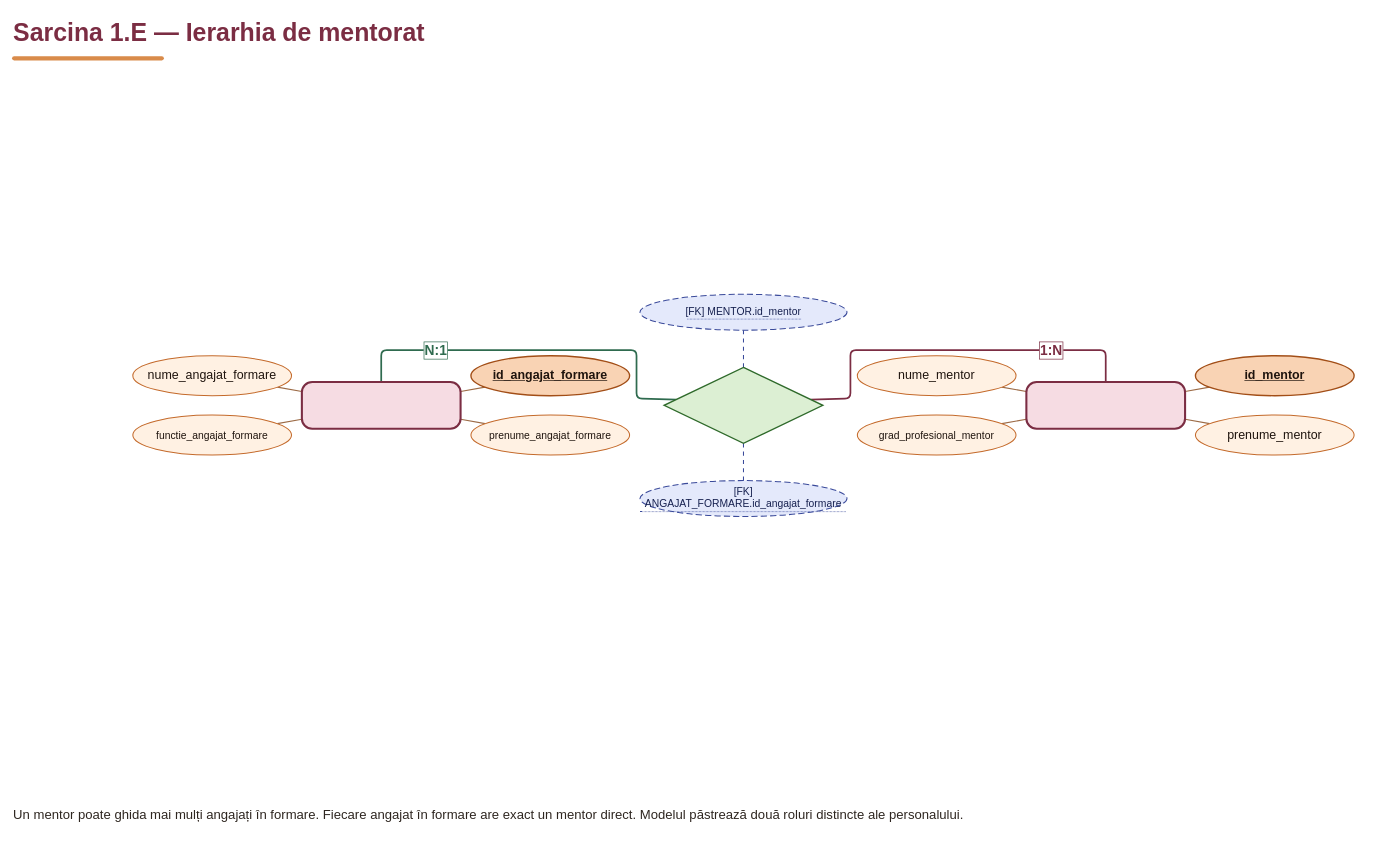
Some shapes in this 1383 by 843 pixel diagram are drawn without their labels. Here are the shapes that lost their labels. From the top down, the box of each, then its label:
(300, 381, 461, 430): ANGAJAT_FORMARE
(663, 366, 823, 444): Ghidează
(1025, 381, 1186, 430): MENTOR
